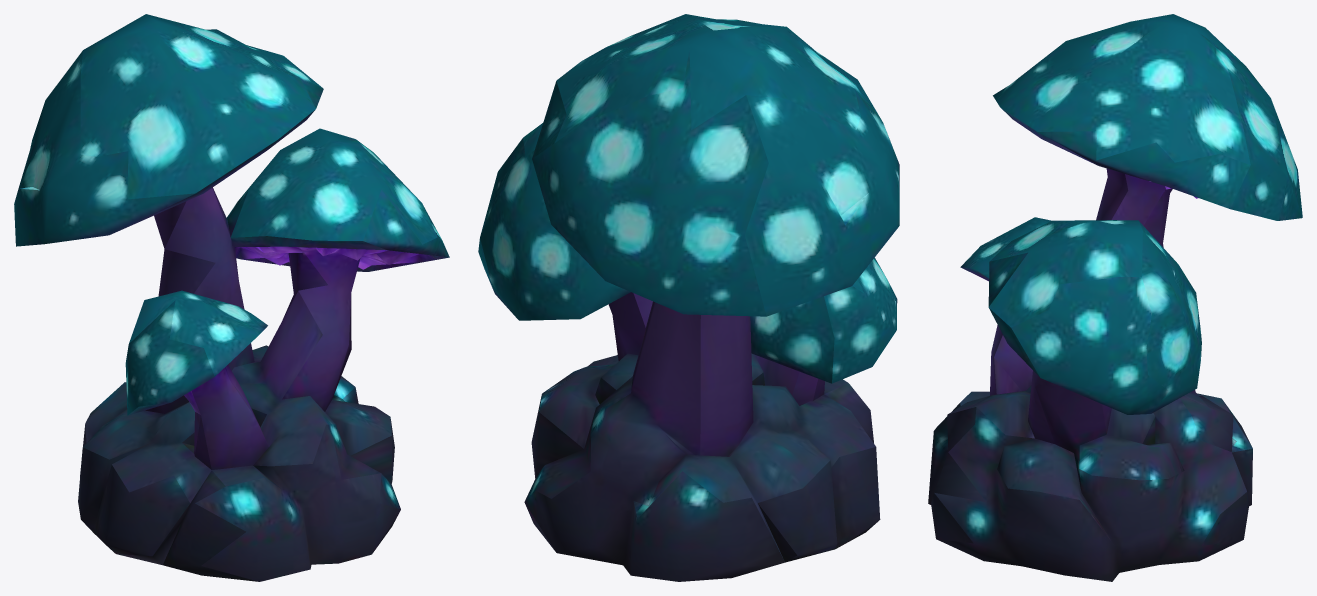
The model's file is d_mycelium_repere.glb.
3 renders of one model, left to right at view 1: azimuth 30°, elevation 25°; view 2: azimuth 150°, elevation 25°; view 3: azimuth 270°, elevation 25°, orthographic. The views are drawn at different scales.
Visible parts, largest first — view 1: geometry_0; view 2: geometry_0; view 3: geometry_0.
Part boxes in pixels (x1,y1,x2,y2): geometry_0: (14, 14, 449, 581); geometry_0: (478, 14, 899, 581); geometry_0: (928, 14, 1302, 581).
Size of the model in its own units: 0.8445 by 1 by 0.7244.
1 material, 1 textured.
